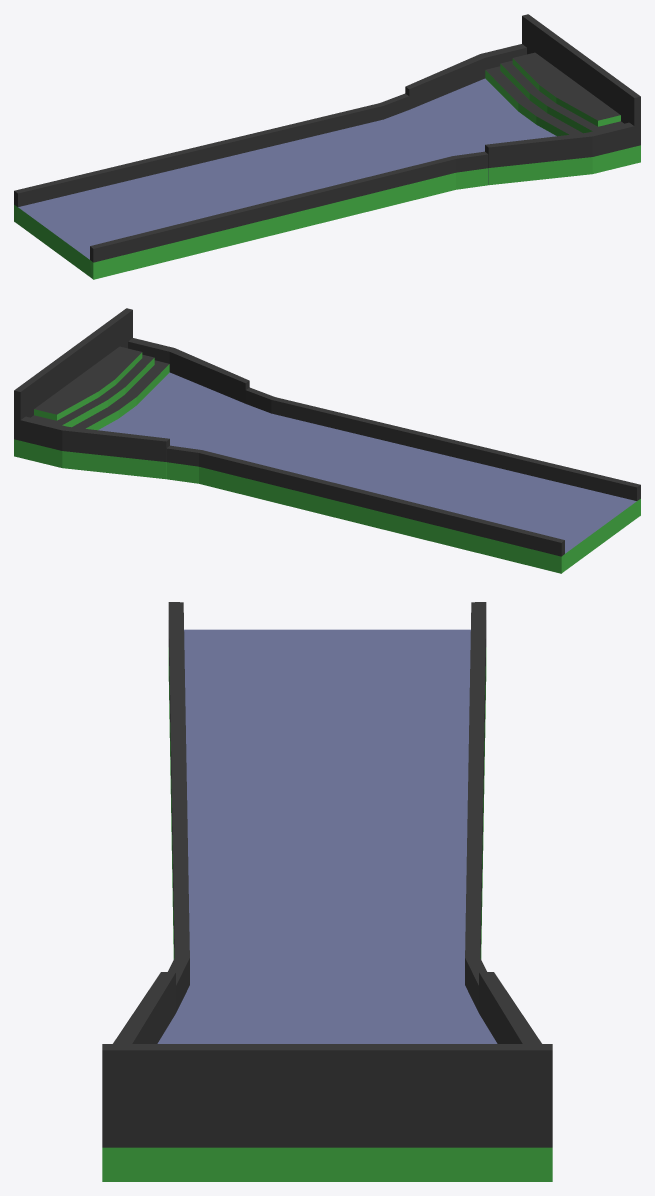
File: startingRoom.fbx
3 views of the same model, one above another, from view 1: azimuth 30°, elevation 25°; view 2: azimuth 150°, elevation 25°; view 3: azimuth 270°, elevation 25° (orthographic). The views are drawn at different scales.
Visible parts, largest first — view 1: Cube; view 2: Cube; view 3: Cube.
Part boxes in pixels (x1,y1,x2,y2): Cube: [14, 14, 640, 279]; Cube: [14, 308, 640, 573]; Cube: [102, 602, 552, 1181].
Bounding box in the file's own units: 8098 × 960 × 2973.
